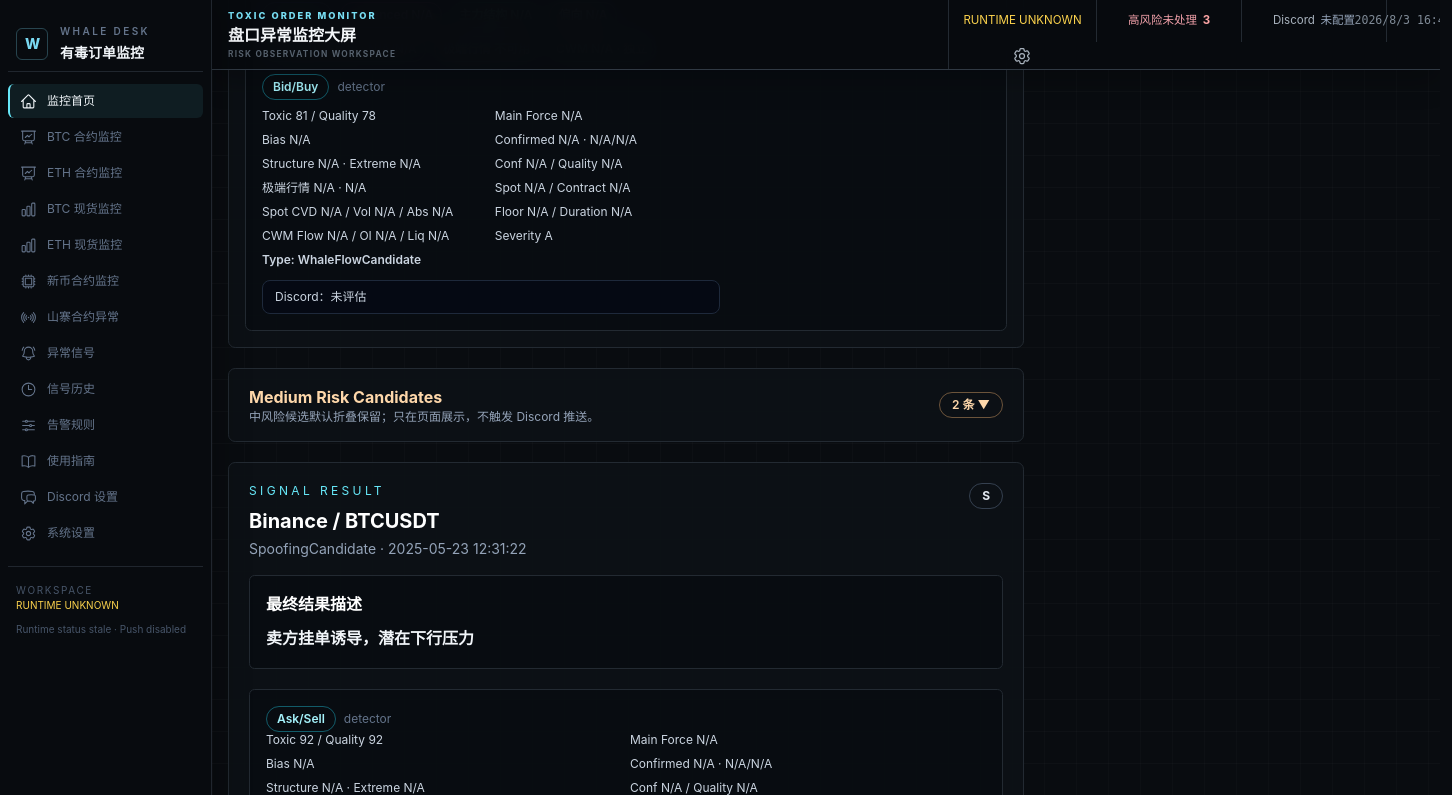
Test: Dashboard interactions › keeps medium-risk candidates display-only for Discord
The width and height of the screenshot is (1452, 795).
(page scrolled)
Click the button "Medium Risk Candidates": (346,397) [229,369,1023,441]
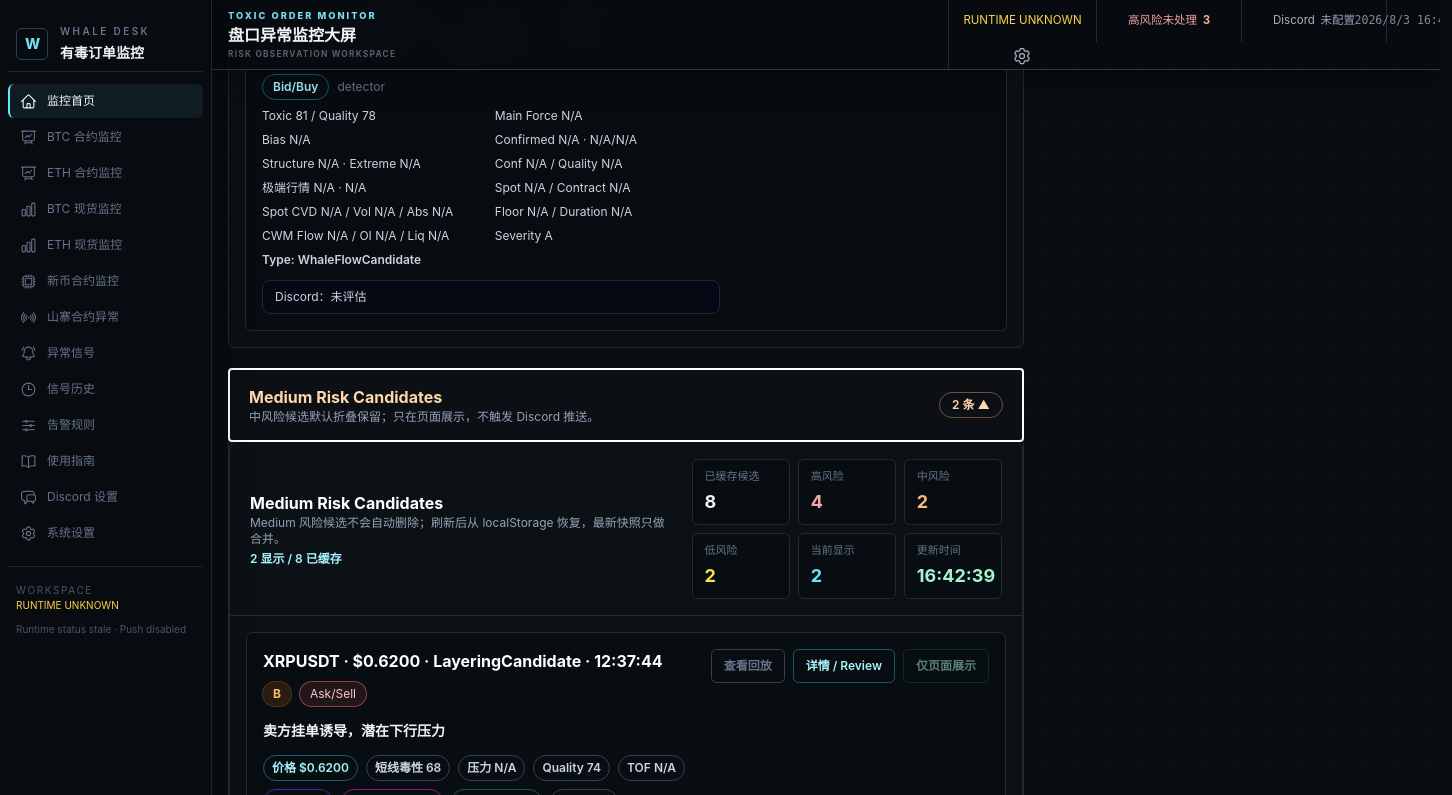
Now the button with aria-label "推送 sig_003 到 Discord" reads "仅页面展示", box [903,649,989,683]
Now the button with aria-label "推送 sig_003 到 Discord" is disabled, box [903,649,989,683]
